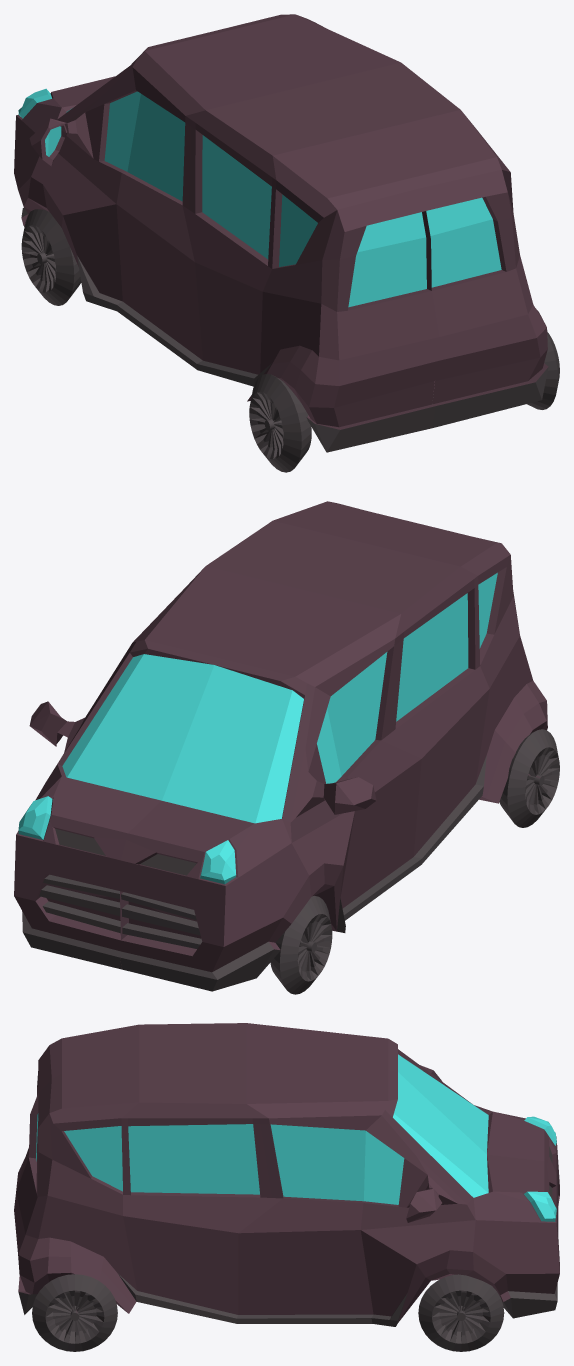
File: car.fbx
3 renders of one model, top to bottom at view 1: azimuth 30°, elevation 25°; view 2: azimuth 150°, elevation 25°; view 3: azimuth 270°, elevation 25°, orthographic. The views are drawn at different scales.
Parts seen in each view (by area): view 1: Cube; view 2: Cube; view 3: Cube.
Boxes of the visible parts, x1,y1,x2,y2 form: Cube: (14,14,559,472); Cube: (14,501,559,994); Cube: (14,1023,559,1351).
Size of the model in its own units: 551 by 430 by 904.
